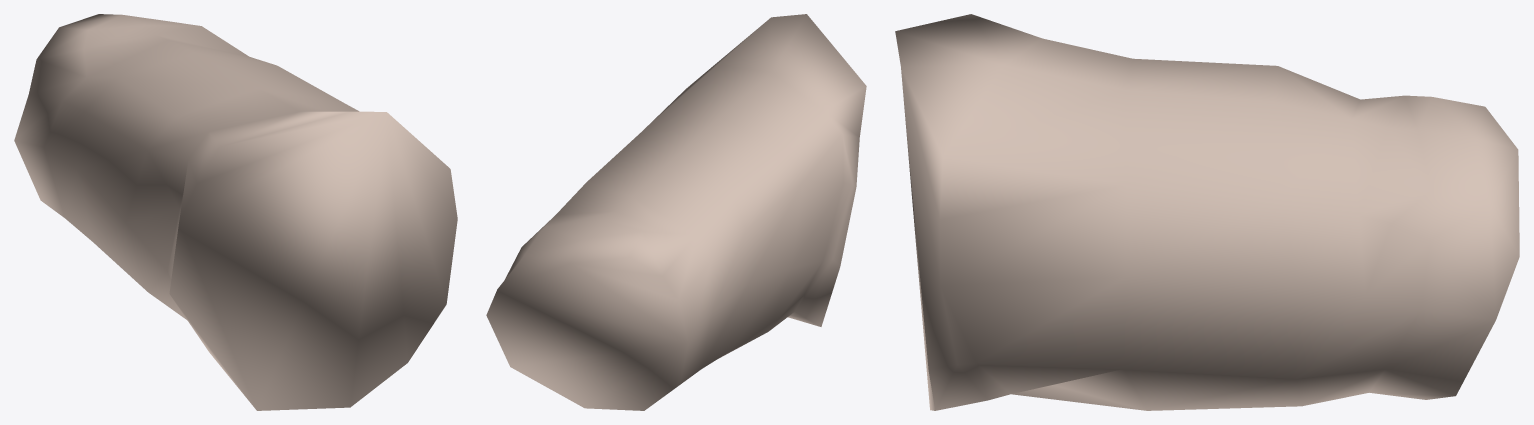
Rendered from LIndex1stPhalange.dae.
3 renders of one model, left to right at view 1: azimuth 30°, elevation 25°; view 2: azimuth 150°, elevation 25°; view 3: azimuth 270°, elevation 25°, orthographic. The views are drawn at different scales.
Visible parts, largest first — view 1: ShapeIndexedFaceSet; view 2: ShapeIndexedFaceSet; view 3: ShapeIndexedFaceSet.
Part boxes in pixels (left/top/right/bottom): ShapeIndexedFaceSet: left=14, top=14, right=457, bottom=410; ShapeIndexedFaceSet: left=486, top=14, right=866, bottom=410; ShapeIndexedFaceSet: left=895, top=14, right=1519, bottom=410.
Bounding box in the file's own units: 0.0215 × 0.0404 × 0.0268.
